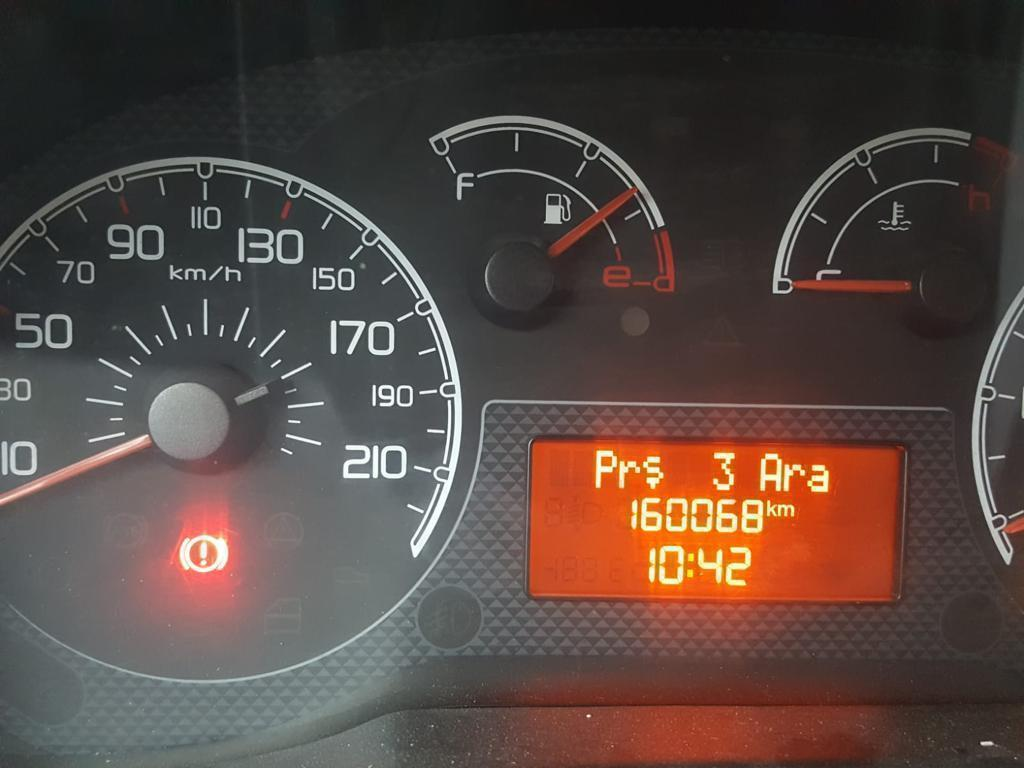0: (657, 544, 685, 585), (664, 496, 688, 533), (690, 497, 714, 533)
1: (647, 546, 656, 584), (629, 497, 639, 529)
2: (724, 544, 753, 586)
3: (710, 449, 736, 492)
4: (696, 545, 723, 585)
6: (714, 496, 739, 533), (640, 496, 663, 532)
8: (740, 497, 765, 534)
X: (758, 450, 783, 492), (592, 448, 617, 489), (641, 453, 664, 489), (618, 458, 641, 489), (783, 461, 806, 492), (807, 463, 829, 493), (777, 502, 795, 517), (686, 551, 695, 579), (765, 498, 777, 517)
odometer: (521, 432, 912, 610)
